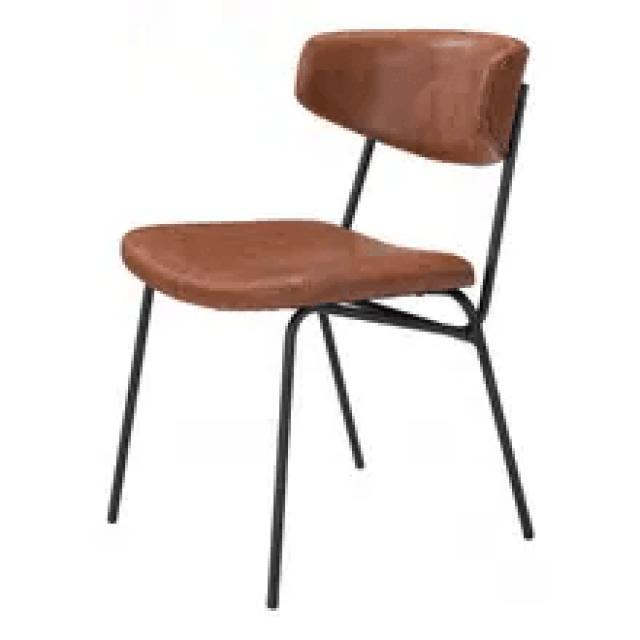chair: (109, 21, 536, 612), (115, 18, 531, 309)
